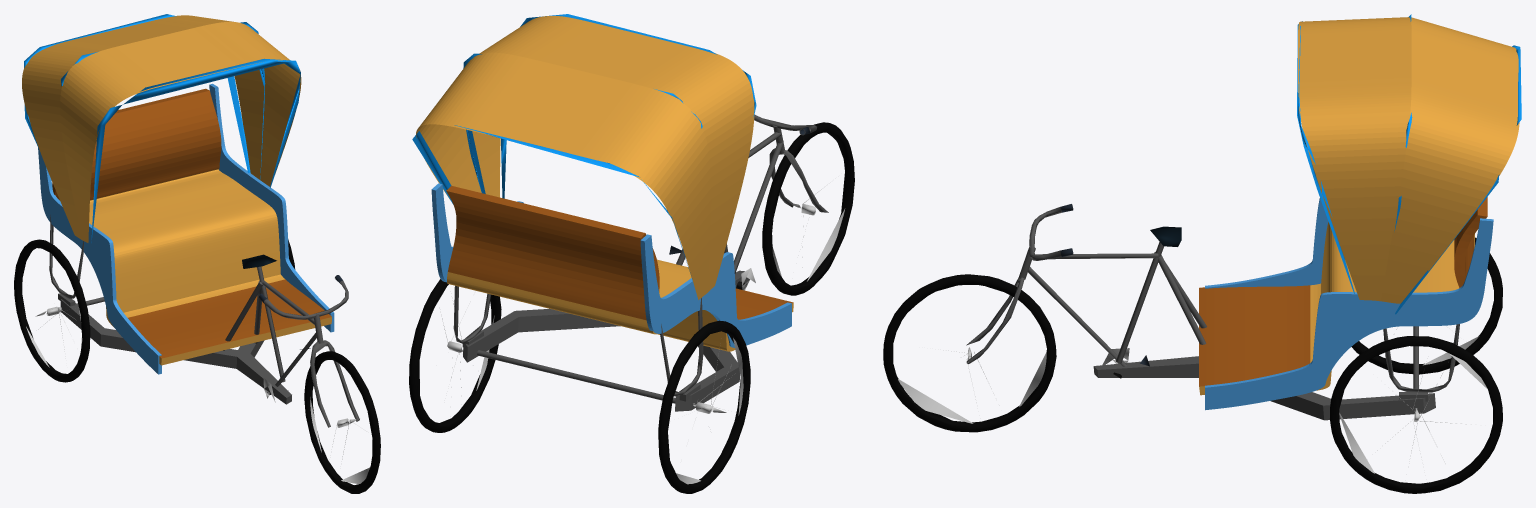
Rendered from st_ricksha.glb.
3 renders of one model, left to right at view 1: azimuth 30°, elevation 25°; view 2: azimuth 150°, elevation 25°; view 3: azimuth 270°, elevation 25°, orthographic. The views are drawn at different scales.
Visible parts, largest first — view 1: Object_4, Object_25, Object_13, Object_5; view 2: Object_25, Object_4, Object_5, Object_13; view 3: Object_25, Object_4, Object_5, Object_13.
Part boxes in pixels (left/top/right/bottom): Object_4: left=24, top=14, right=369, bottom=483; Object_25: left=22, top=15, right=334, bottom=374; Object_13: left=49, top=215, right=359, bottom=427; Object_5: left=14, top=239, right=380, bottom=493; Object_25: left=416, top=16, right=791, bottom=347; Object_4: left=412, top=14, right=845, bottom=484; Object_5: left=409, top=122, right=854, bottom=493; Object_13: left=453, top=114, right=828, bottom=411; Object_25: left=1205, top=17, right=1519, bottom=410; Object_4: left=898, top=14, right=1521, bottom=473; Object_5: left=883, top=237, right=1502, bottom=493; Object_13: left=966, top=207, right=1459, bottom=420.
Size of the model in its own units: 1.35 by 1.78 by 2.74.
4 materials, 4 textured.
